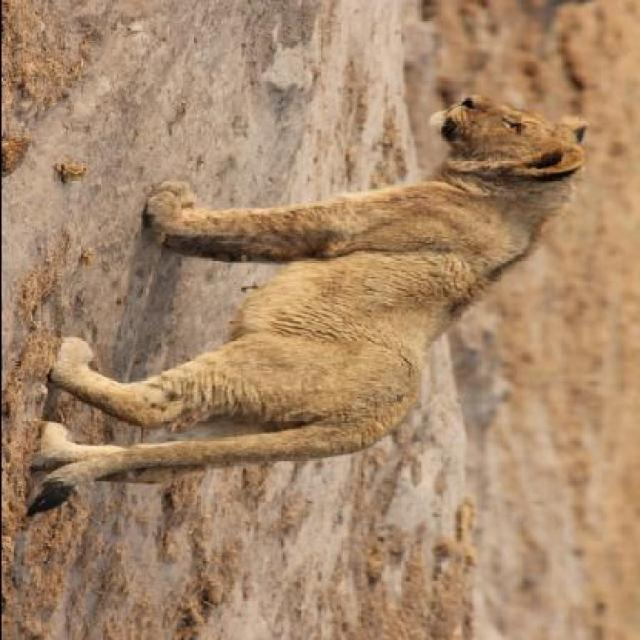Lion: (28, 80, 604, 517)
